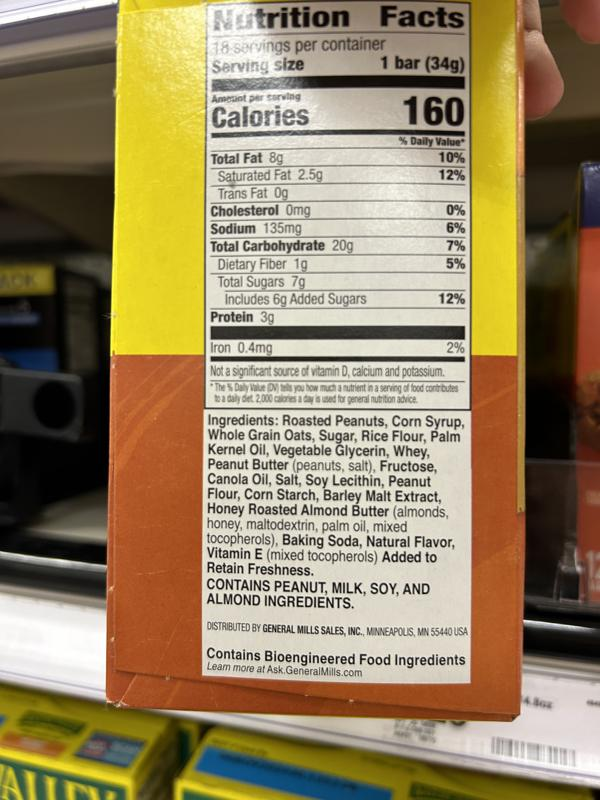ingredients: (205, 412, 467, 578)
